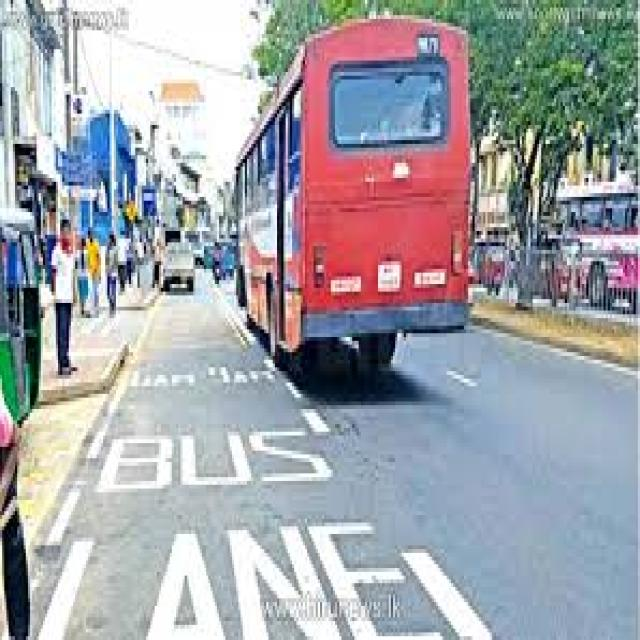bus: (340, 192, 496, 510)
person: (13, 384, 76, 640)
